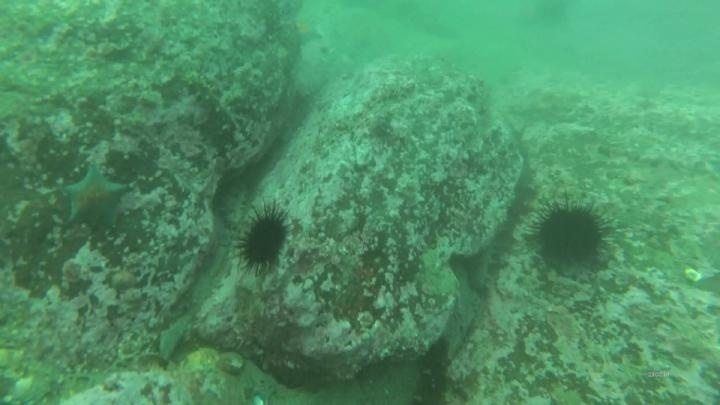echinus: (528, 198, 613, 271), (233, 203, 293, 273)
holothurian: (411, 337, 454, 405), (181, 68, 223, 116)
starfish: (60, 163, 132, 231), (291, 15, 325, 47)
